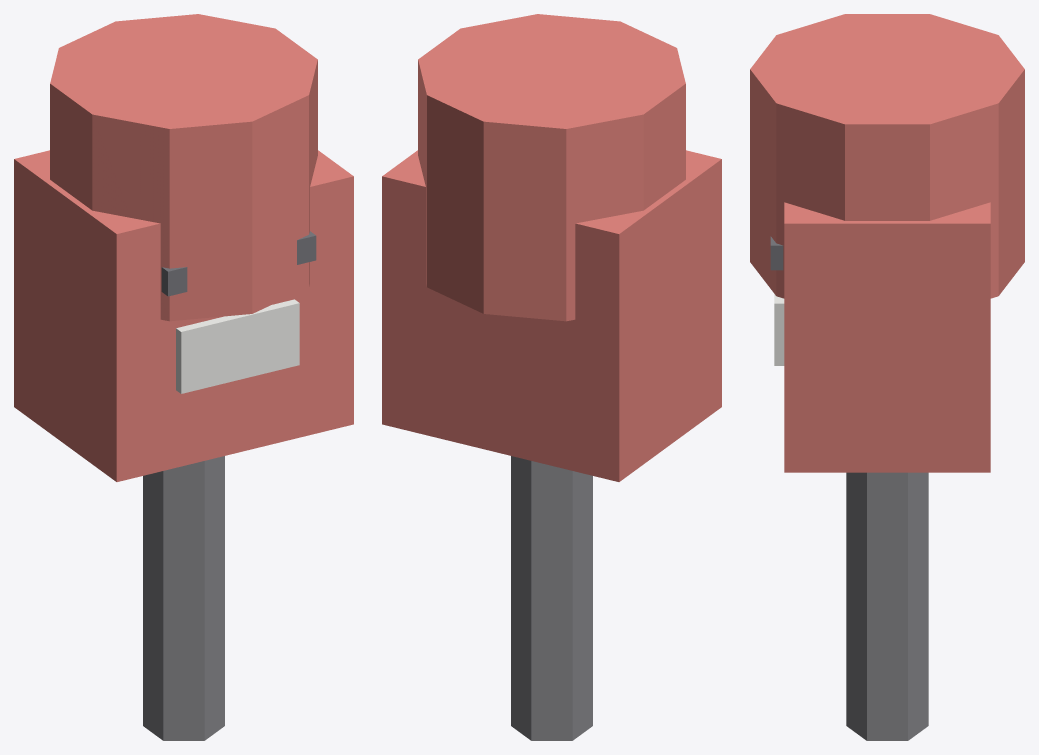
The model's file is mailbox.glb.
3 renders of one model, left to right at view 1: azimuth 30°, elevation 25°; view 2: azimuth 150°, elevation 25°; view 3: azimuth 270°, elevation 25°, orthographic.
Visible parts, largest first — view 1: mailbox; view 2: mailbox; view 3: mailbox.
Boxes of the visible parts, x1,y1,x2,y2 form: mailbox: (14, 14, 353, 740); mailbox: (382, 14, 721, 740); mailbox: (750, 14, 1024, 740).
Size of the model in its own units: 0.8 by 2.11 by 0.8.
